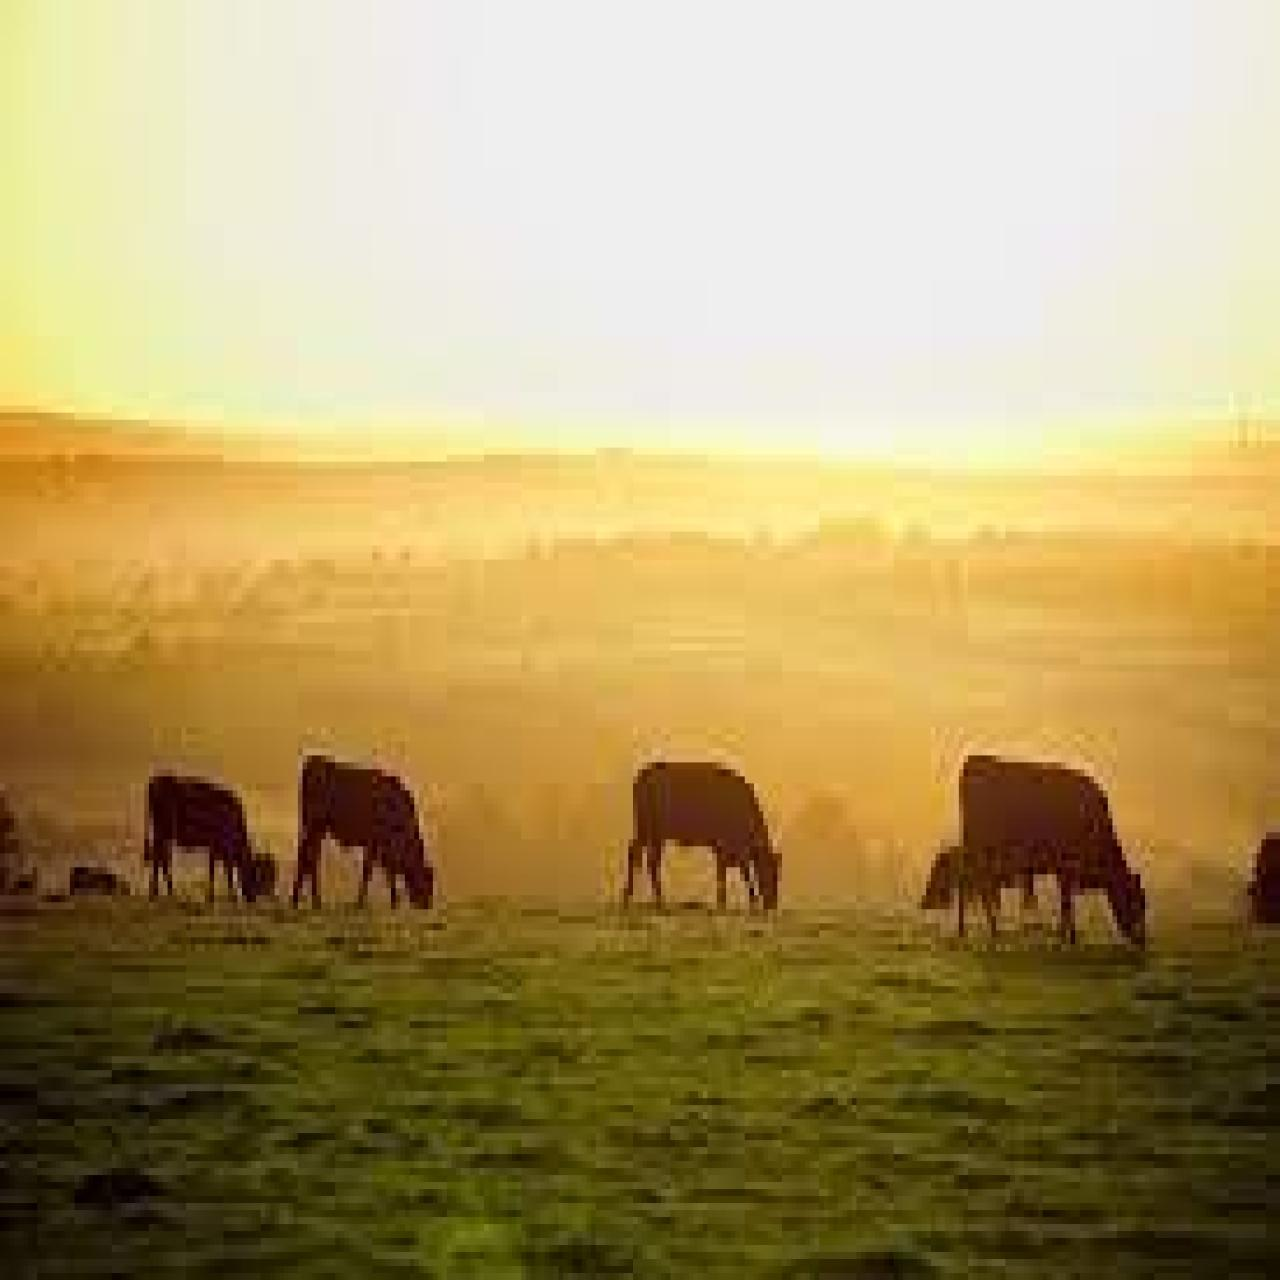cow: (961, 763, 1148, 952), (621, 763, 784, 917), (298, 753, 437, 920), (149, 776, 274, 924)
